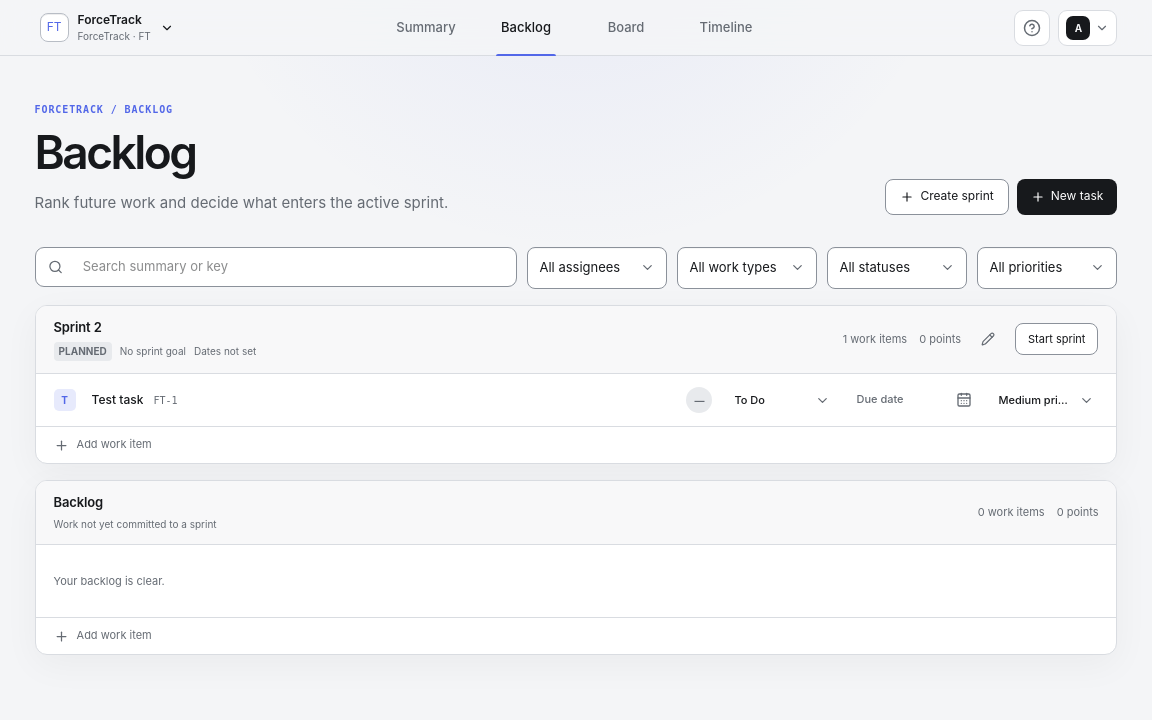
Test: Backlog planning › starts a populated sprint with editable details and default dates
This screenshot has width=1152, height=720.
Click the button "Start sprint". click: [1057, 339]
box: left=1015, top=323, right=1098, bottom=355
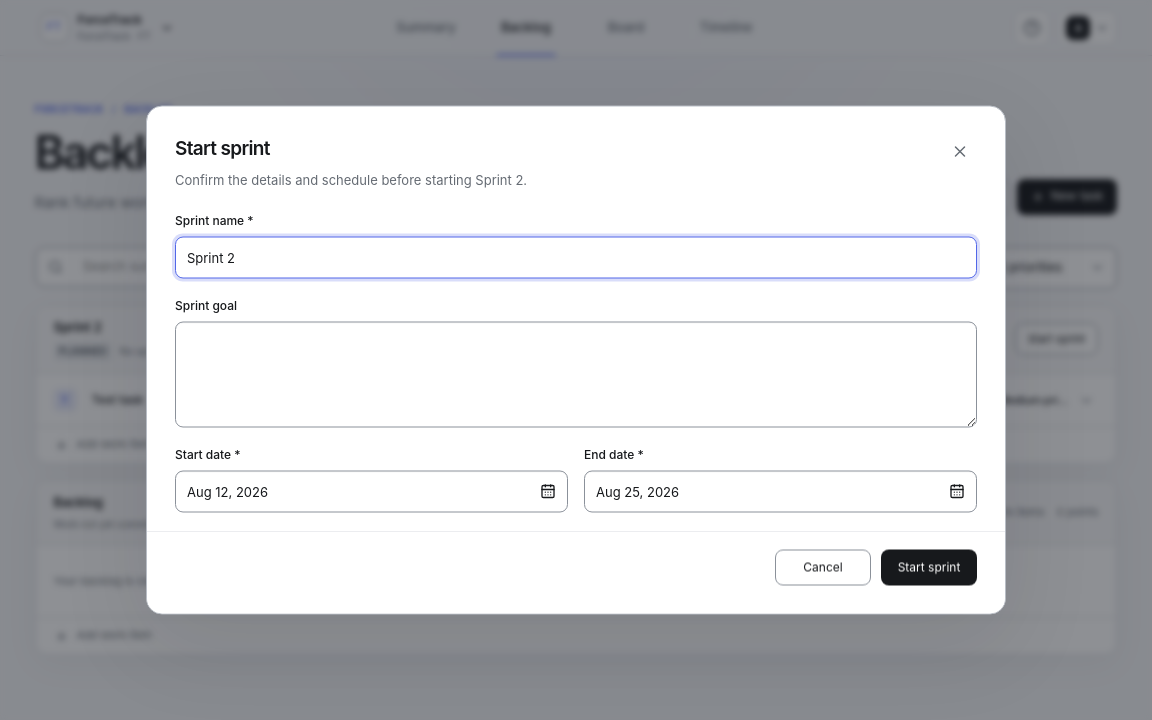
Replace the text in the field labelled "Sprint name *" with "Launch". click: [576, 258]
box: left=175, top=236, right=977, bottom=278
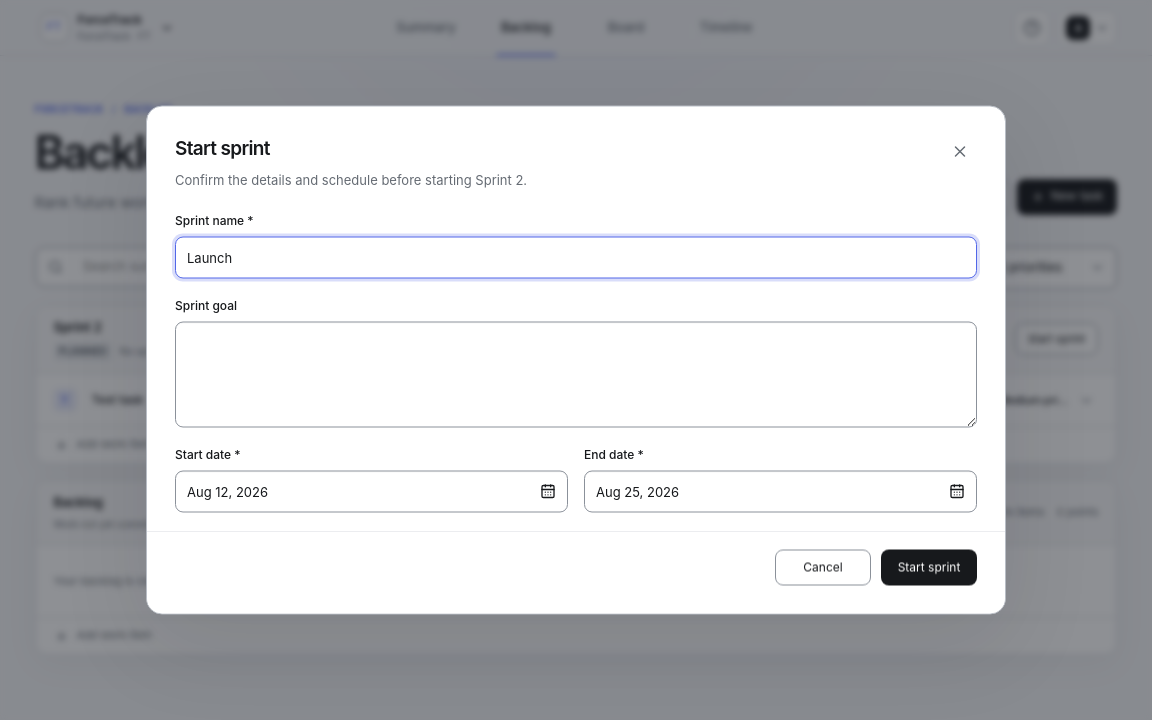
Type "Ship it" into the text box labelled "Sprint goal". click: [576, 374]
box: left=175, top=322, right=977, bottom=428
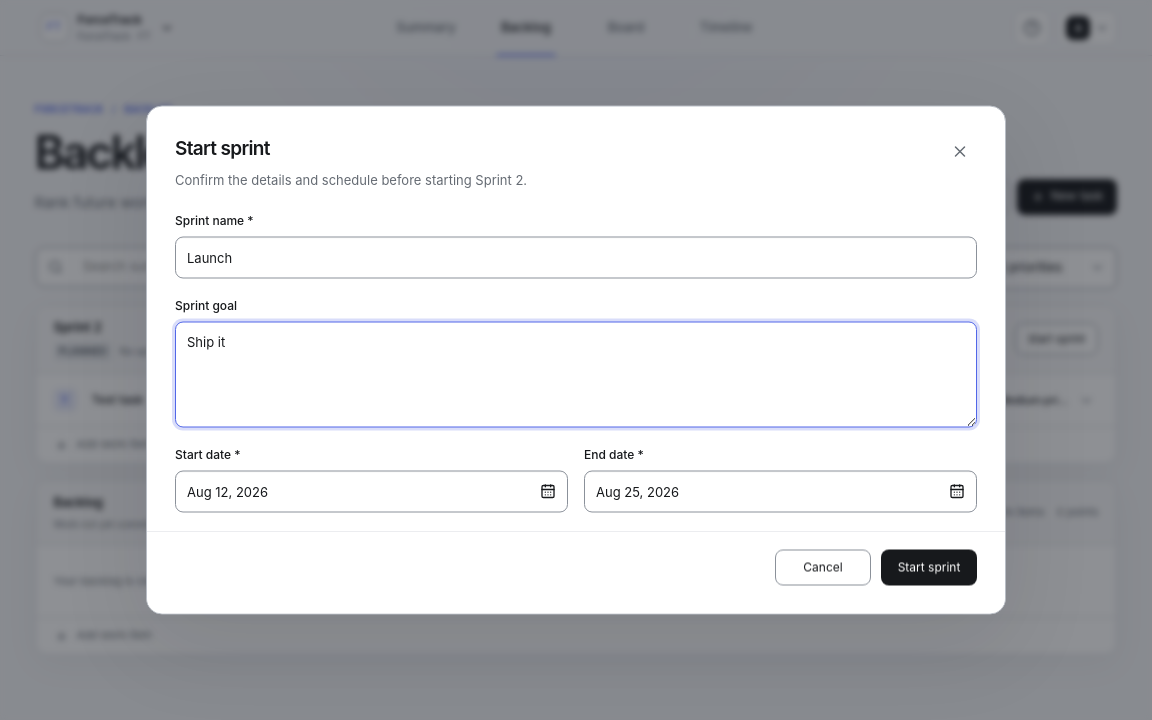
Click the button "Start sprint". click: [929, 568]
box: left=881, top=550, right=977, bottom=586
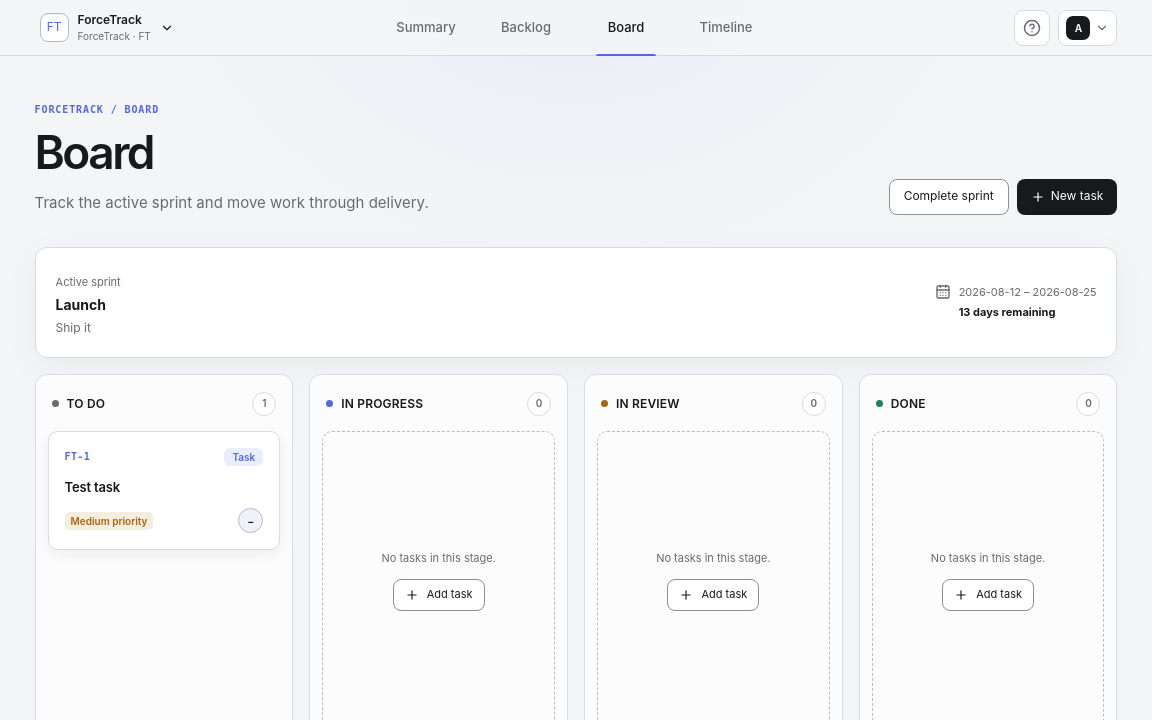
expect the text "Launch" is shown: met, box left=56, top=296, right=106, bottom=312
expect the text "Ship it" is shown: met, box left=56, top=320, right=91, bottom=334
